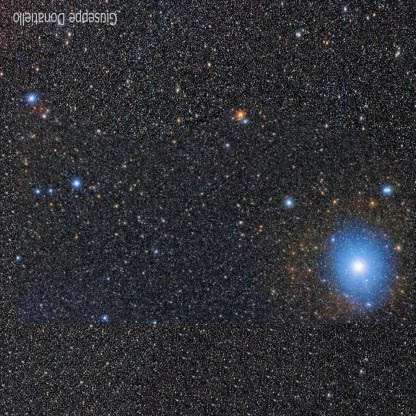Lyra: (314, 220, 391, 314), (18, 84, 44, 113), (375, 173, 401, 201), (63, 168, 86, 198), (279, 188, 298, 213), (229, 100, 248, 122)
